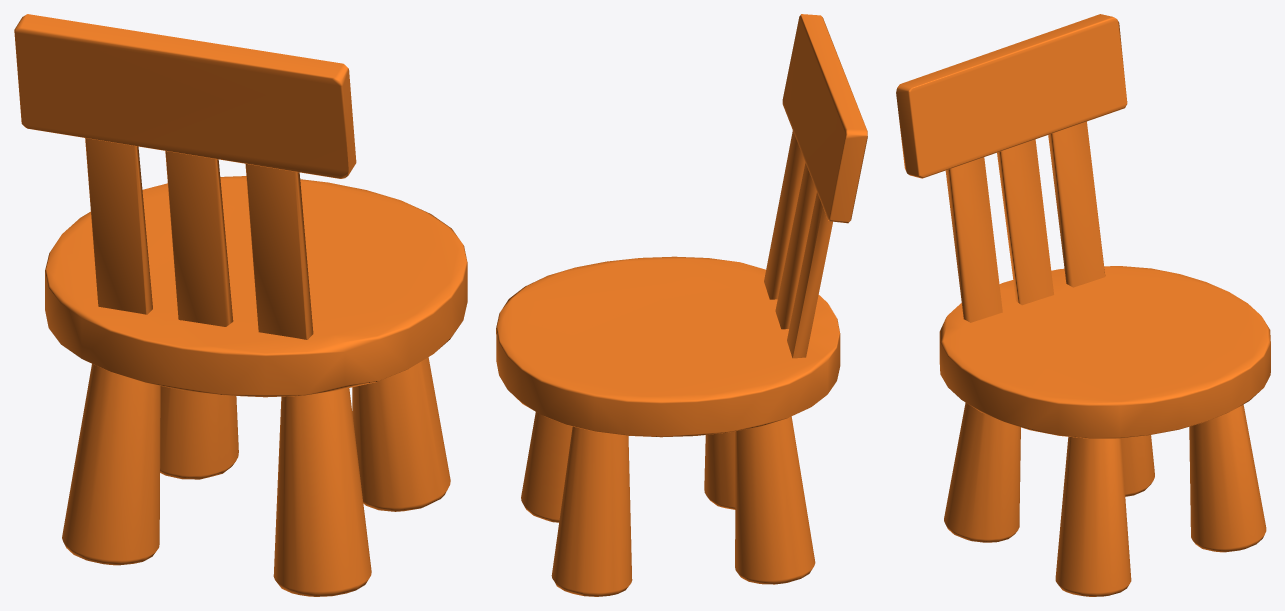
File: sedia_arancio_LOD2.fbx
The picture shows the model from 3 angles, left to right: view 1: azimuth 30°, elevation 25°; view 2: azimuth 150°, elevation 25°; view 3: azimuth 270°, elevation 25°; orthographic projection. The views are drawn at different scales.
Visible parts, largest first — view 1: sedia_arancio; view 2: sedia_arancio; view 3: sedia_arancio.
Part boxes in pixels (bbox=[...]): sedia_arancio: bbox=[14, 14, 467, 596]; sedia_arancio: bbox=[496, 14, 867, 596]; sedia_arancio: bbox=[896, 14, 1270, 596].
Bounding box in the file's own units: 174 × 218 × 170.
